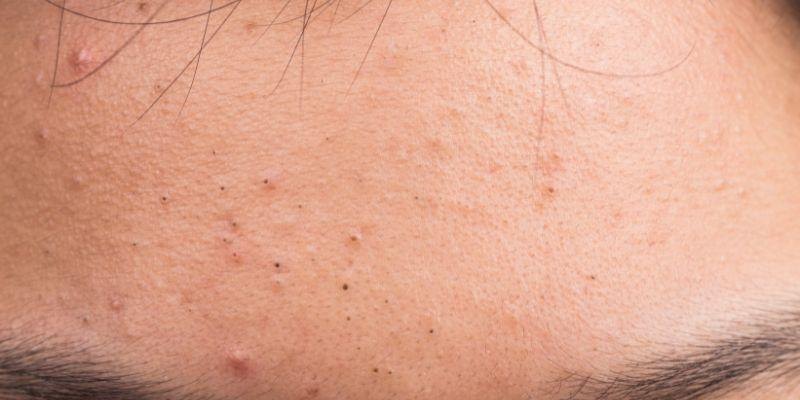Blackheads: (154, 178, 358, 312)
acne marks: (45, 65, 137, 145), (215, 338, 265, 384)
